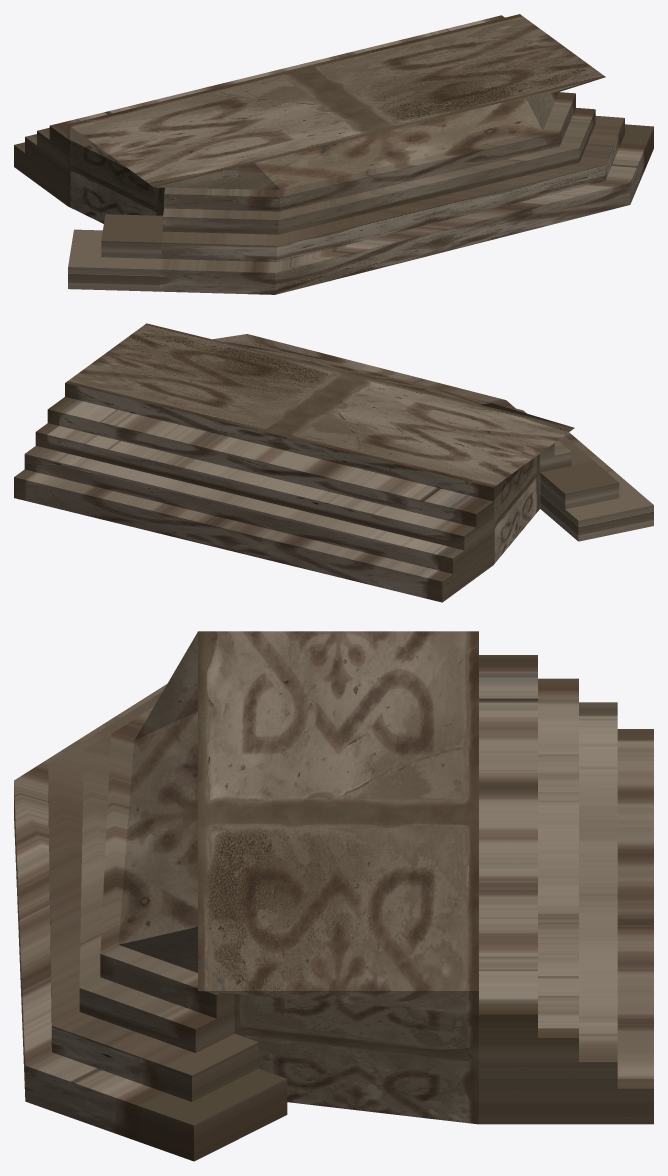
Rendered from STEPS.fbx.
The picture shows the model from 3 angles, top to bottom: view 1: azimuth 30°, elevation 25°; view 2: azimuth 150°, elevation 25°; view 3: azimuth 270°, elevation 25°; orthographic projection. The views are drawn at different scales.
Visible parts, largest first — view 1: Cube.015; view 2: Cube.015; view 3: Cube.015.
Part boxes in pixels (x1,y1,x2,y2): Cube.015: (14, 14, 653, 294); Cube.015: (14, 323, 653, 602); Cube.015: (14, 631, 653, 1161).
Size of the model in its own units: 1253 by 168 by 730.
Materials: 1 (1 with a texture image).
